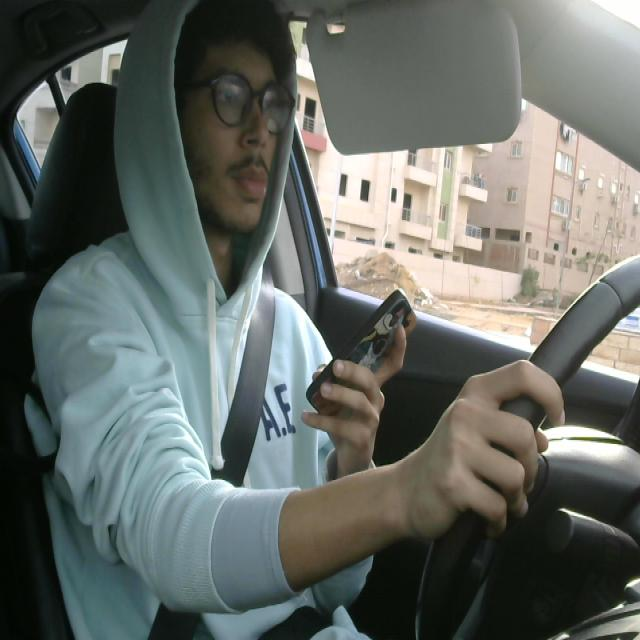mobile use: (304, 290, 422, 432)
